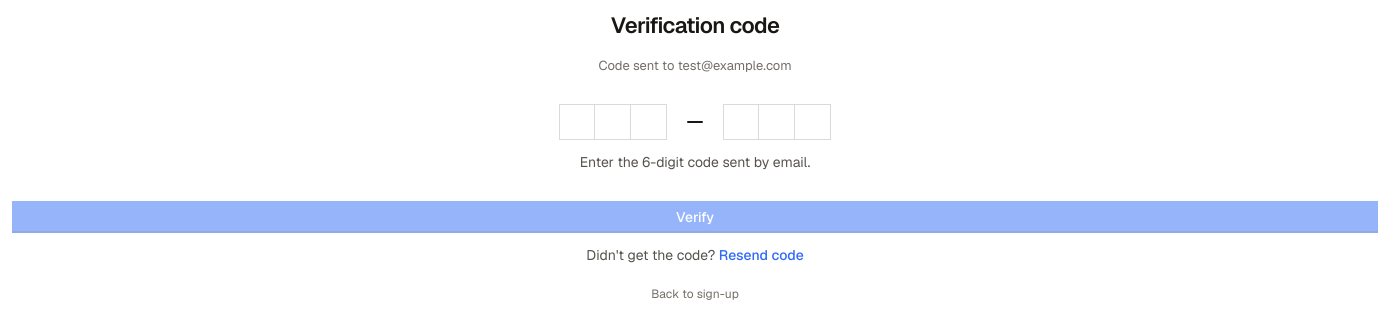
OTPForm - Step 2: Verification › Resend OTP › should start countdown after resending OTP
Click the button "Resend code" at (761, 255), box [719,245,804,265]
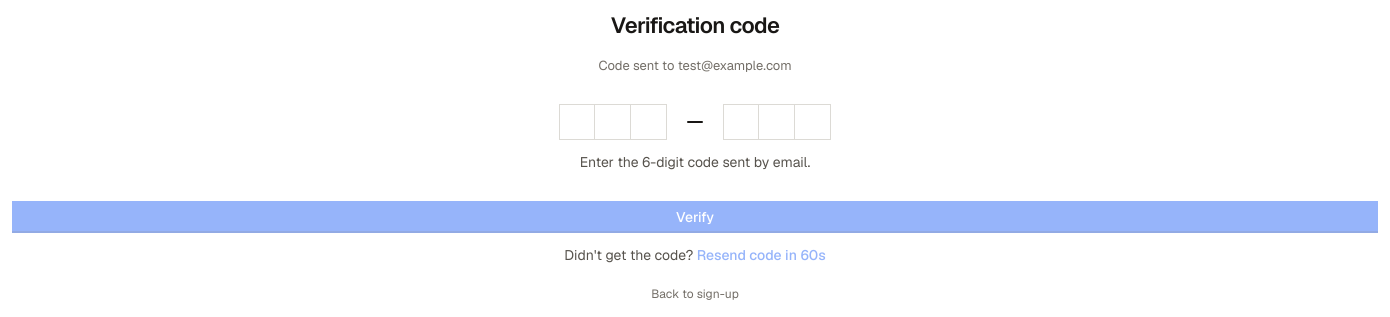
expect the button "Resend code in 60s" is shown: met, box [697,245,826,265]
